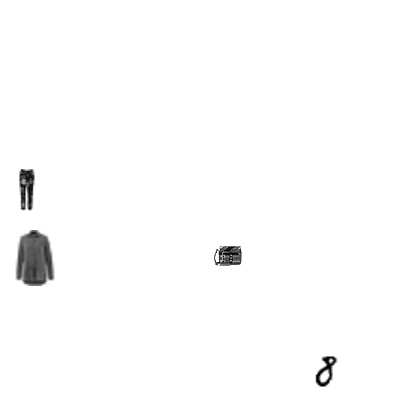0: (156, 217, 240, 301), (61, 301, 103, 343), (220, 132, 234, 146)
2: (55, 159, 111, 215)
4: (346, 267, 374, 295)
6: (279, 123, 307, 151)
Bag: (81, 21, 165, 105)
Dress: (302, 371, 316, 385)
Sandal: (107, 347, 121, 361)
Sneaker: (211, 310, 295, 394)
T-shirt/top: (103, 368, 145, 410)
